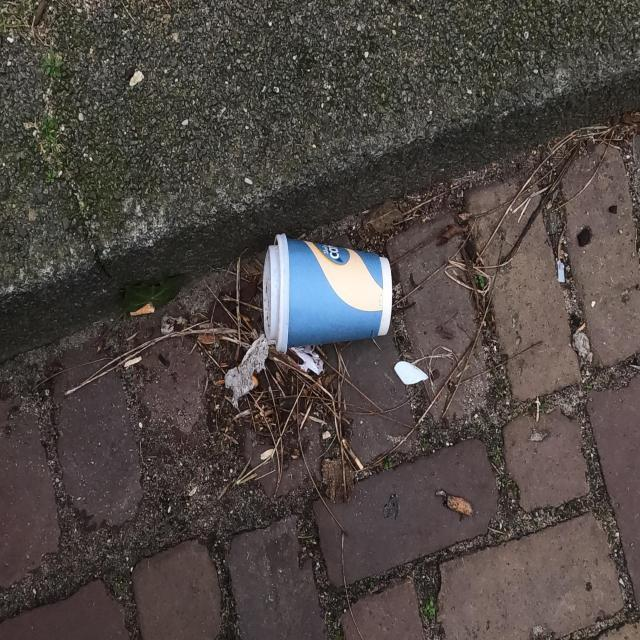Cup: (252, 228, 416, 361)
